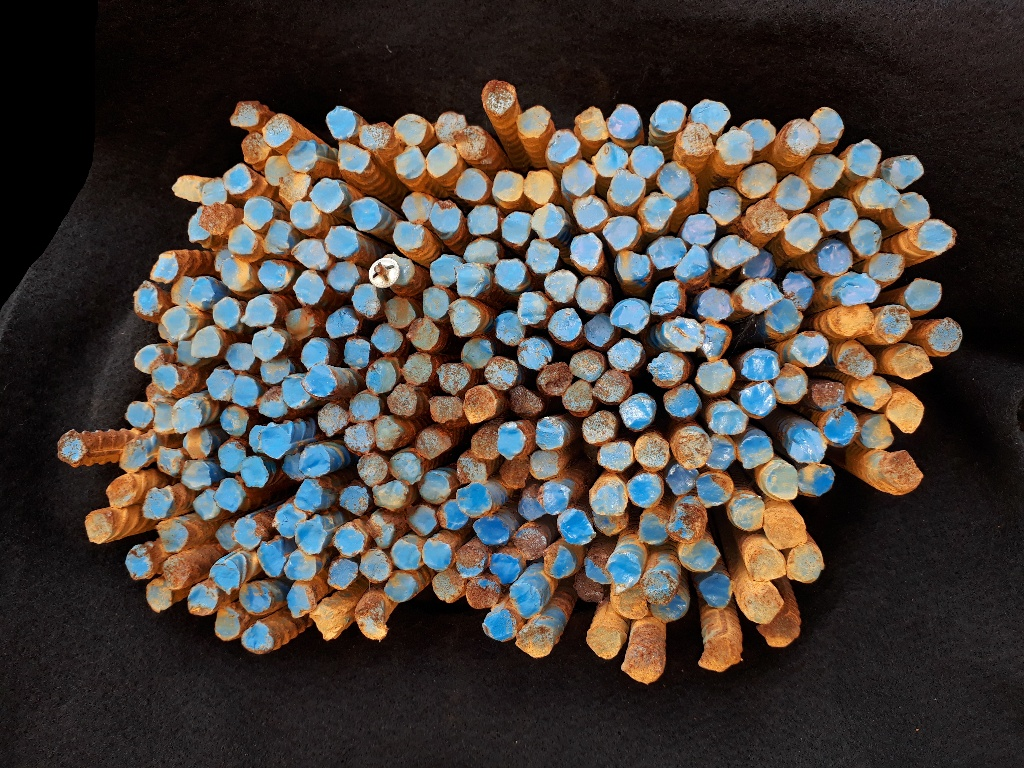dipstick: (884, 451, 924, 494), (368, 253, 415, 288), (742, 584, 781, 624), (625, 648, 667, 683), (785, 213, 822, 252), (766, 511, 807, 546), (589, 478, 627, 515), (839, 340, 876, 378), (714, 236, 759, 267), (668, 505, 705, 542), (675, 431, 711, 469), (847, 140, 882, 178), (790, 428, 828, 463), (746, 201, 786, 234), (892, 345, 932, 378), (888, 397, 924, 433), (619, 394, 656, 429), (760, 615, 800, 647), (634, 435, 670, 470), (766, 301, 801, 337), (702, 641, 744, 671), (463, 386, 497, 423), (558, 510, 595, 544), (787, 547, 824, 581), (628, 473, 663, 508), (641, 195, 676, 230), (271, 504, 305, 540), (611, 298, 648, 331), (742, 348, 779, 381), (797, 463, 834, 496), (356, 602, 388, 640), (743, 280, 781, 312), (719, 131, 753, 166), (786, 119, 820, 154), (742, 381, 776, 416), (607, 554, 640, 590), (879, 305, 912, 341), (793, 332, 829, 365), (257, 423, 289, 460), (640, 571, 677, 603), (739, 162, 776, 194), (835, 304, 872, 336), (698, 361, 735, 393), (516, 625, 554, 656), (664, 320, 702, 351), (709, 404, 747, 435), (610, 170, 644, 204), (891, 156, 925, 190), (895, 192, 929, 226), (562, 160, 595, 195), (605, 216, 640, 249), (576, 276, 609, 311), (823, 198, 858, 231), (699, 573, 731, 609), (610, 589, 648, 619), (692, 100, 730, 130), (839, 276, 878, 305), (777, 364, 806, 403), (608, 105, 641, 139), (596, 143, 629, 177), (649, 353, 684, 385), (856, 377, 891, 409), (732, 496, 764, 531), (449, 300, 480, 336), (570, 233, 601, 269), (851, 221, 882, 257), (697, 474, 733, 505), (683, 543, 720, 573), (861, 181, 900, 209), (311, 607, 344, 640), (587, 627, 620, 660), (531, 204, 564, 237), (811, 156, 844, 189), (510, 584, 542, 618), (777, 175, 809, 209), (458, 485, 493, 516), (930, 318, 961, 353), (664, 385, 699, 416), (826, 410, 857, 445), (905, 280, 941, 310), (749, 550, 785, 580), (649, 237, 686, 266), (482, 81, 515, 113), (517, 105, 549, 138), (455, 263, 487, 296), (456, 453, 489, 485), (584, 411, 616, 444), (527, 240, 559, 273), (655, 100, 687, 133), (862, 415, 894, 448), (765, 466, 797, 499), (608, 339, 642, 370), (918, 221, 954, 250), (704, 323, 731, 361), (253, 329, 285, 361), (326, 558, 358, 590), (514, 527, 546, 559), (709, 190, 741, 222), (325, 226, 358, 257), (222, 259, 253, 292), (295, 521, 326, 554), (538, 362, 571, 393), (699, 288, 732, 319), (351, 197, 381, 231), (365, 361, 395, 395), (676, 246, 706, 280), (293, 240, 328, 269), (303, 367, 338, 396), (595, 372, 630, 401), (818, 244, 853, 273), (426, 144, 457, 176), (401, 191, 432, 223), (389, 452, 420, 484), (548, 131, 579, 163), (549, 309, 581, 340), (683, 213, 715, 244), (294, 271, 324, 304), (502, 213, 532, 246), (57, 433, 87, 466), (84, 511, 114, 544), (546, 270, 576, 303), (616, 251, 649, 281), (659, 162, 689, 195), (524, 170, 553, 204), (215, 479, 244, 513), (238, 583, 272, 612), (241, 299, 276, 327), (598, 442, 633, 470), (498, 422, 525, 458), (869, 254, 905, 281), (242, 622, 273, 653), (455, 127, 485, 159), (395, 146, 425, 178), (106, 476, 136, 508), (422, 540, 452, 572), (486, 357, 516, 389), (633, 145, 663, 177), (682, 125, 712, 157), (263, 114, 292, 147), (232, 518, 261, 551), (318, 402, 347, 435), (417, 430, 450, 459), (466, 579, 499, 608), (516, 339, 549, 368), (584, 314, 613, 347), (812, 381, 845, 410), (508, 387, 542, 415), (571, 351, 605, 379), (519, 291, 547, 325), (257, 542, 284, 577), (428, 395, 463, 422), (784, 272, 811, 307), (710, 436, 737, 471), (395, 114, 425, 145), (455, 170, 486, 200), (358, 454, 388, 485), (409, 318, 439, 349), (157, 522, 189, 551), (573, 198, 605, 227), (125, 546, 153, 579), (373, 482, 407, 509), (536, 416, 563, 450), (652, 282, 679, 316), (367, 514, 393, 549), (817, 108, 843, 143), (258, 260, 288, 290), (300, 447, 330, 477), (344, 423, 374, 453), (434, 572, 464, 602), (326, 107, 355, 138), (314, 181, 343, 212), (327, 261, 358, 290), (160, 309, 189, 340), (334, 527, 365, 556), (388, 385, 417, 416), (420, 473, 449, 504), (402, 354, 431, 385), (545, 546, 574, 577), (538, 484, 567, 515), (741, 437, 772, 466), (119, 442, 147, 474), (143, 487, 171, 519), (284, 552, 316, 580), (348, 394, 380, 422), (361, 550, 389, 582), (371, 326, 403, 354), (484, 612, 516, 640), (243, 456, 270, 489), (585, 552, 612, 585), (473, 518, 508, 543), (435, 111, 464, 141), (496, 260, 526, 289), (182, 461, 212, 490), (210, 562, 239, 592), (438, 500, 468, 529), (385, 298, 415, 327), (489, 553, 519, 582), (564, 381, 593, 411), (638, 515, 668, 544), (287, 584, 315, 615), (667, 466, 698, 494), (431, 255, 458, 287), (578, 108, 605, 140), (188, 586, 217, 615), (340, 486, 369, 515), (280, 173, 310, 201), (432, 201, 460, 231), (467, 206, 497, 234), (172, 402, 200, 432), (385, 574, 415, 602), (500, 459, 528, 489), (337, 144, 368, 171), (394, 223, 425, 250), (438, 364, 469, 391), (296, 480, 322, 512), (134, 282, 159, 315), (223, 164, 251, 193), (243, 199, 271, 228), (191, 329, 219, 358), (184, 430, 212, 459), (392, 541, 420, 570), (747, 120, 776, 148), (258, 387, 285, 417), (461, 340, 491, 367), (472, 429, 499, 459), (456, 547, 483, 577), (529, 451, 559, 478), (164, 558, 190, 589), (496, 313, 522, 344), (359, 123, 391, 148), (264, 221, 289, 253), (213, 297, 238, 329), (219, 441, 244, 473), (208, 369, 232, 402), (325, 311, 358, 335), (375, 418, 399, 451), (743, 253, 776, 277), (221, 407, 249, 435), (201, 205, 230, 232), (494, 173, 523, 200), (286, 310, 313, 339), (282, 378, 309, 407), (463, 239, 497, 262), (520, 485, 543, 519), (409, 506, 435, 536), (353, 283, 378, 314), (344, 338, 369, 369), (215, 609, 240, 640), (291, 202, 319, 229), (147, 581, 172, 611), (423, 289, 448, 319), (190, 277, 214, 308), (260, 360, 291, 384), (652, 601, 687, 622), (229, 226, 256, 253), (134, 345, 161, 372), (242, 133, 268, 161), (265, 156, 291, 184), (289, 142, 315, 170), (151, 253, 177, 281), (301, 340, 329, 366), (574, 577, 603, 602), (173, 176, 200, 202), (230, 101, 258, 126), (194, 491, 219, 519), (234, 376, 256, 407), (226, 344, 253, 369), (126, 403, 152, 428), (151, 366, 179, 389), (595, 515, 627, 535), (157, 448, 182, 473), (217, 522, 237, 552), (201, 180, 226, 203), (171, 277, 191, 305), (187, 209, 205, 239), (154, 402, 172, 432), (284, 455, 301, 480), (145, 383, 169, 400), (177, 340, 192, 364), (215, 249, 229, 270)
